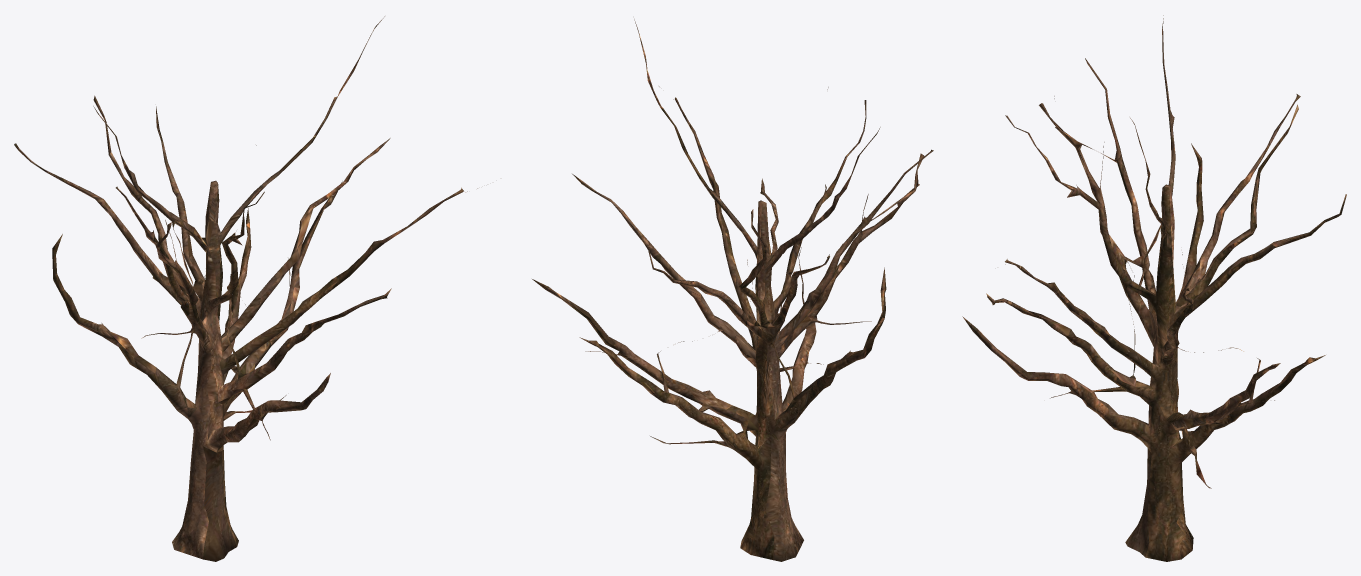
Rendered from tronco_dos(1).glb.
The picture shows the model from 3 angles, left to right: view 1: azimuth 30°, elevation 25°; view 2: azimuth 150°, elevation 25°; view 3: azimuth 270°, elevation 25°; orthographic projection. The views are drawn at different scales.
Visible parts, largest first — view 1: Tree_001; view 2: Tree_001; view 3: Tree_001.
Boxes of the visible parts, x1,y1,x2,y2 form: Tree_001: (14,16,477,561); Tree_001: (532,19,933,561); Tree_001: (962,15,1346,561).
Bounding box in the file's own units: 0.8042 × 1.11 × 0.7581.
Materials: 1 (1 with a texture image).
